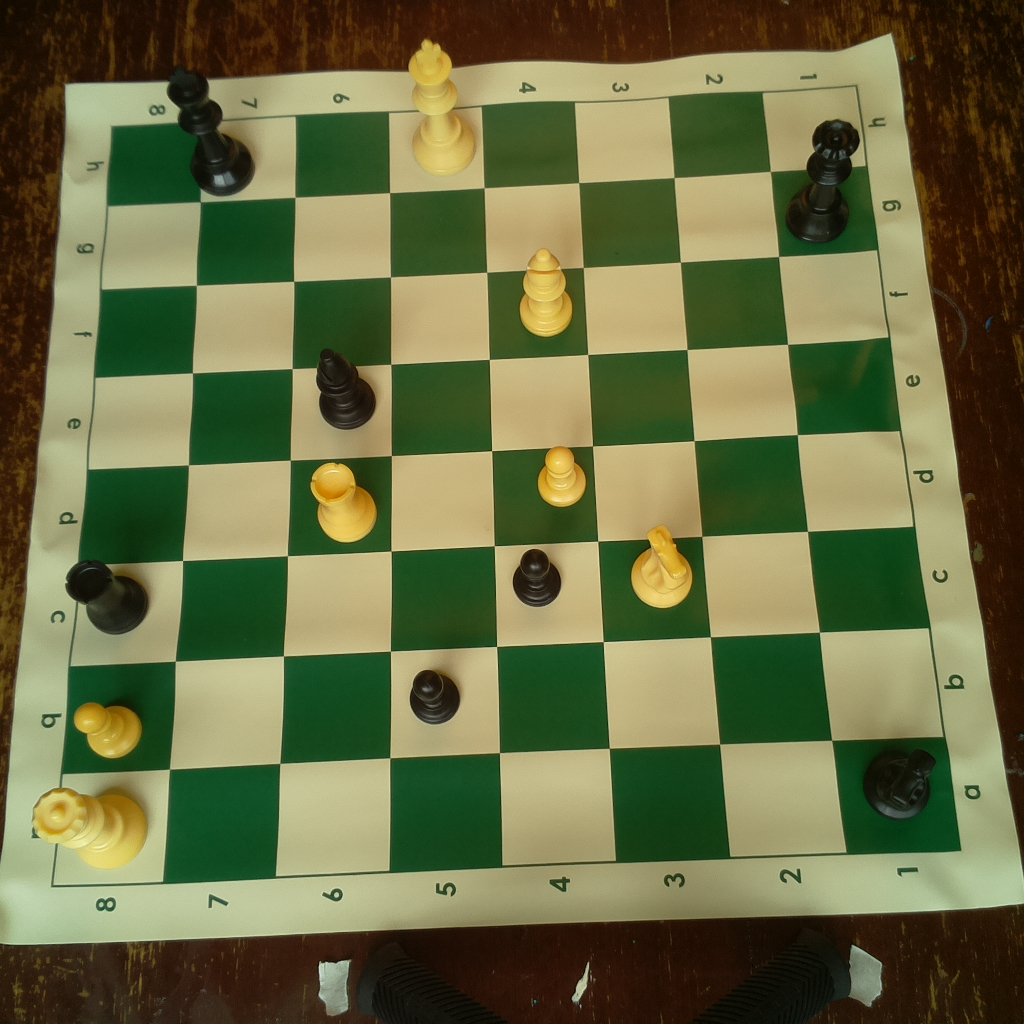black_bishop: (312, 348, 379, 432)
black_king: (167, 62, 259, 197)
black_knight: (855, 739, 942, 825)
black_pawn: (507, 544, 570, 610), (410, 667, 463, 731)
black_queen: (784, 114, 862, 245)
black_rook: (64, 556, 157, 640)
file_a: (54, 738, 963, 883)
file_b: (60, 628, 946, 775)
file_c: (70, 526, 931, 669)
file_d: (79, 431, 914, 567)
file_e: (89, 339, 901, 467)
file_f: (94, 249, 888, 377)
file_g: (102, 167, 880, 291)
file_h: (105, 87, 868, 209)
outline: (53, 86, 963, 880)
rank_1: (764, 86, 960, 857)
rank_2: (670, 92, 847, 856)
rank_3: (575, 96, 732, 861)
rank_4: (481, 100, 619, 867)
rank_5: (386, 105, 506, 874), (386, 108, 502, 874)
rank_6: (273, 112, 392, 873)
rank_7: (160, 115, 298, 887)
rank_8: (53, 122, 207, 888)
white_bishop: (515, 243, 577, 345)
white_king: (397, 34, 479, 178)
white_knight: (625, 522, 696, 610)
white_pawn: (71, 697, 145, 758), (536, 435, 590, 505)
white_queen: (29, 783, 153, 871)
white_rook: (305, 456, 381, 549)
